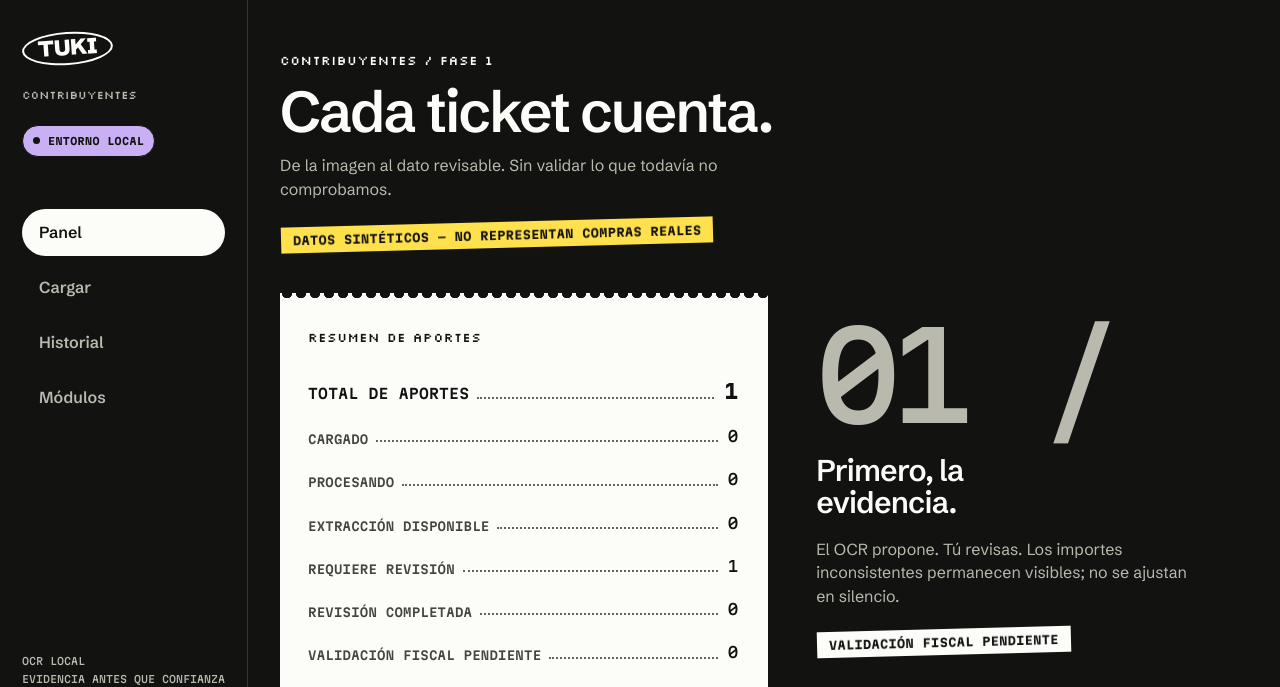
Test: shows record-derived counters, filtered history and eleven honest future modules
Click the button "Historial" at (124,342), box [22,319,225,366]
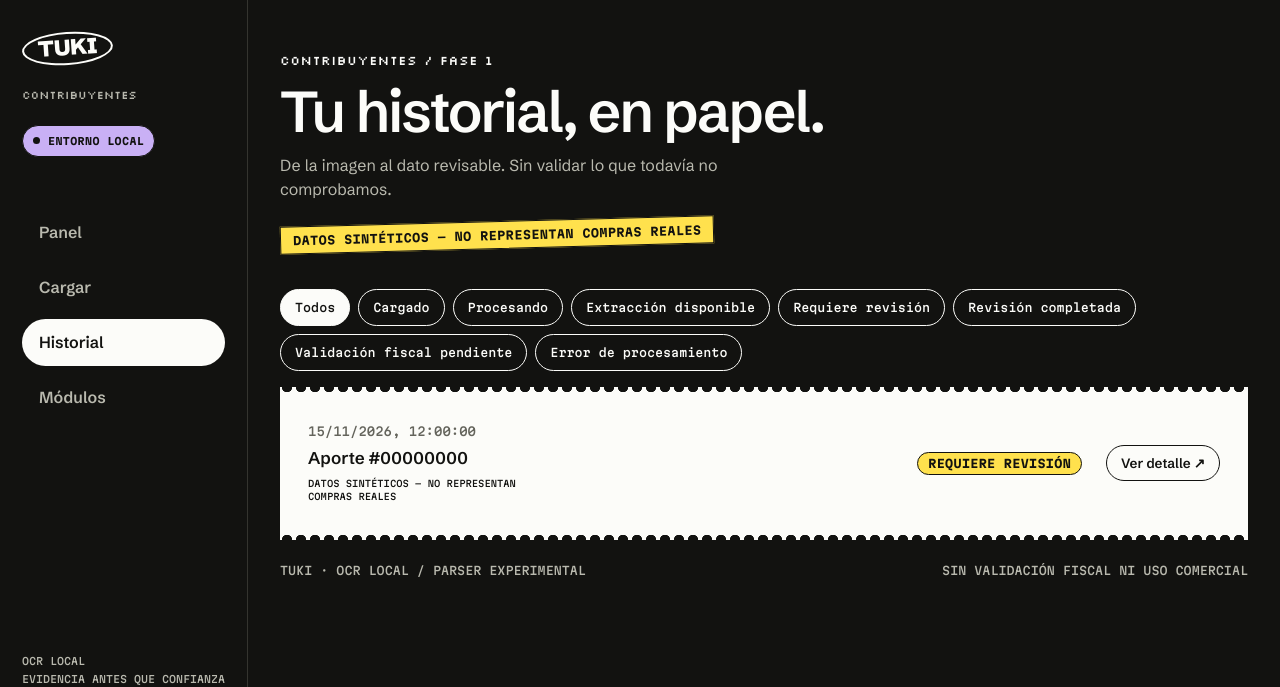
Expected: the button "Requiere revisión" is shown
Click the button "Requiere revisión" at (862,308), box [778,289,945,326]
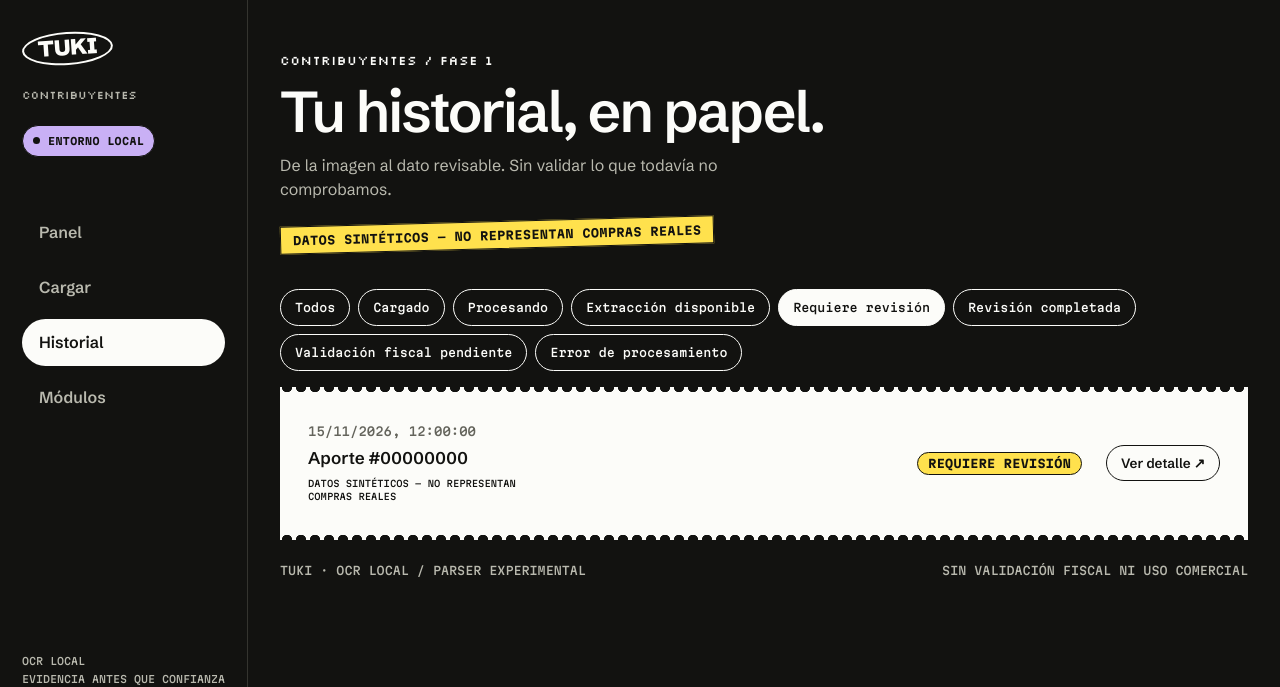
Click the button "Módulos" at (124,398), box [22,374,225,421]
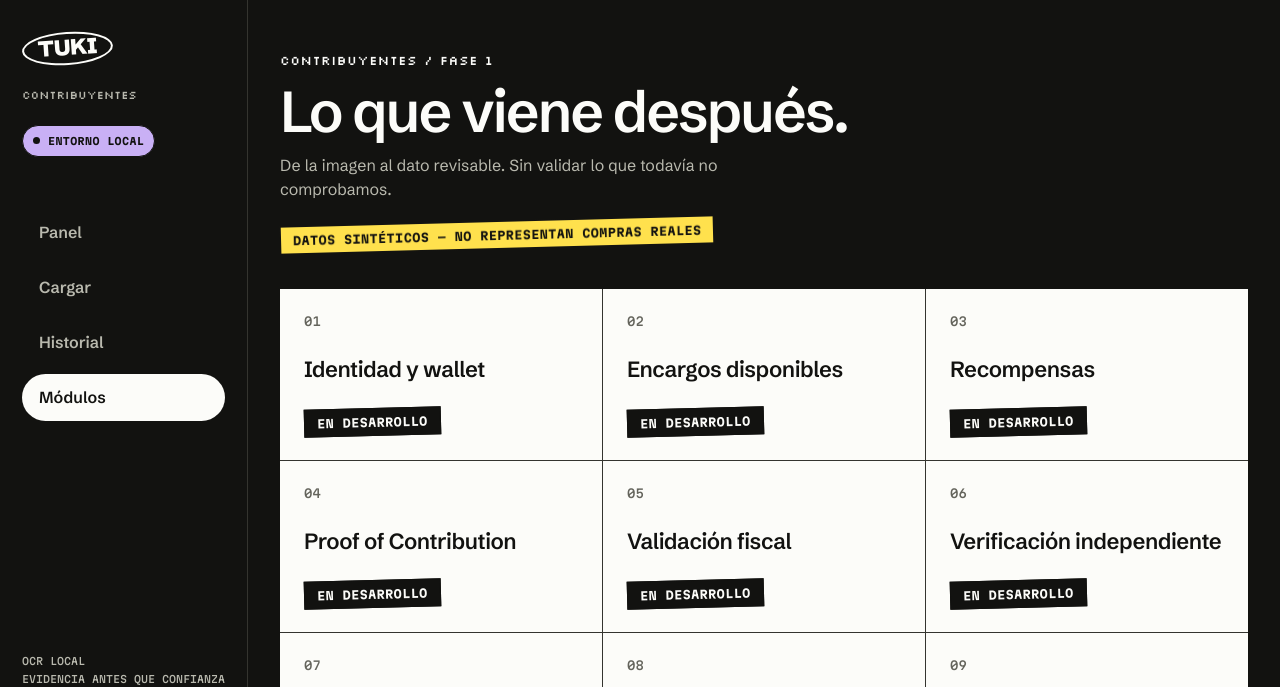
Expected: the number of elements with class "module" is 11
